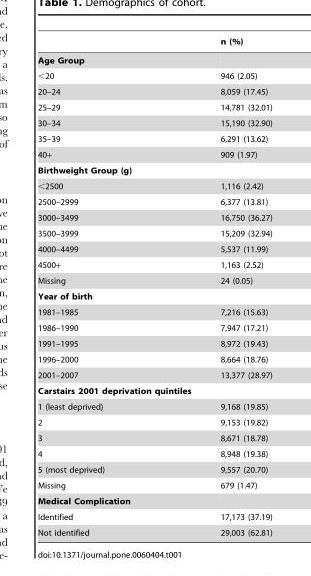table: (37, 36, 271, 536)
table column: (37, 36, 205, 536), (205, 36, 271, 536)
table column header: (37, 36, 271, 50)
table projected row header: (37, 50, 271, 67), (37, 162, 271, 178), (37, 288, 271, 304), (37, 382, 271, 398), (37, 493, 271, 508)
table row: (37, 50, 271, 67), (37, 145, 271, 162), (37, 255, 271, 272), (37, 67, 271, 83), (37, 83, 271, 99), (37, 99, 271, 115), (37, 162, 271, 178), (37, 193, 271, 209), (37, 209, 271, 225), (37, 225, 271, 241), (37, 272, 271, 288), (37, 288, 271, 304), (37, 319, 271, 335), (37, 335, 271, 351), (37, 351, 271, 367), (37, 382, 271, 398), (37, 398, 271, 414), (37, 414, 271, 430), (37, 445, 271, 461), (37, 461, 271, 477), (37, 477, 271, 493), (37, 508, 271, 524), (37, 115, 271, 130), (37, 130, 271, 145), (37, 178, 271, 193), (37, 304, 271, 319), (37, 367, 271, 382), (37, 430, 271, 445), (37, 493, 271, 508), (37, 36, 271, 50), (37, 241, 271, 255), (37, 524, 271, 536)
